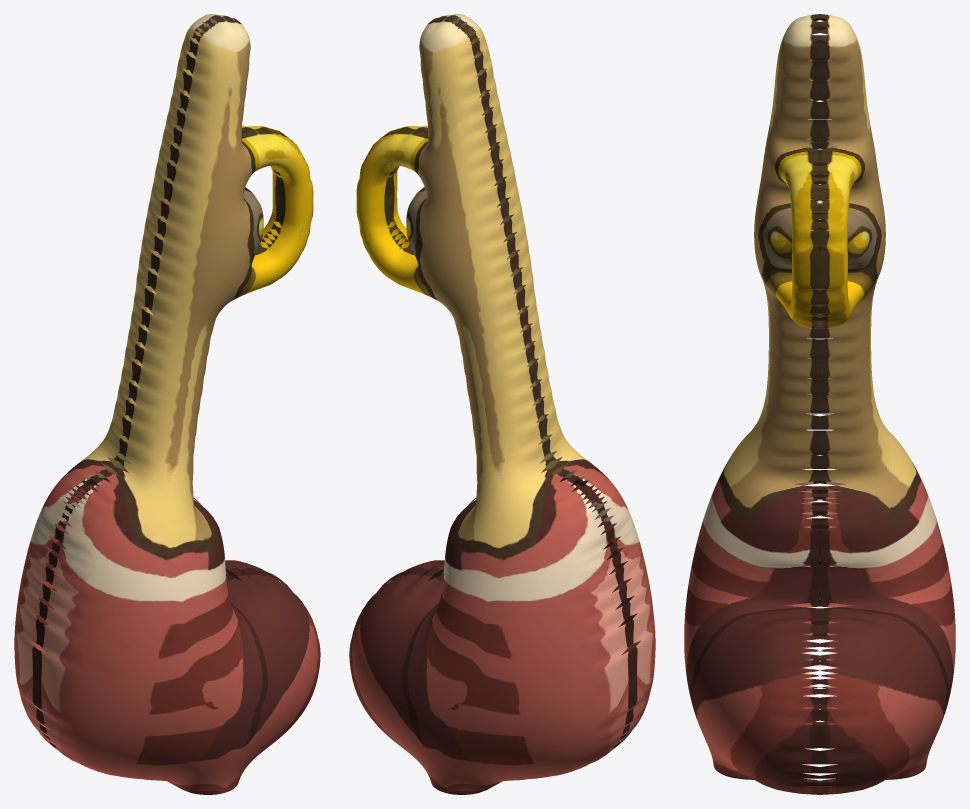
Rendered from pit_upright.glb.
3 views of the same model, side by side, from view 1: azimuth 30°, elevation 25°; view 2: azimuth 150°, elevation 25°; view 3: azimuth 270°, elevation 25° (orthographic). The views are drawn at different scales.
Visible parts, largest first — view 1: pit_upright; view 2: pit_upright; view 3: pit_upright.
Part boxes in pixels (box(x1,y1,x2,y2)): pit_upright: box(14, 14, 320, 794); pit_upright: box(349, 14, 655, 794); pit_upright: box(684, 14, 955, 794).
Bounding box in the file's own units: 0.9721 × 2.5 × 0.7972.
1 material, 1 textured.
